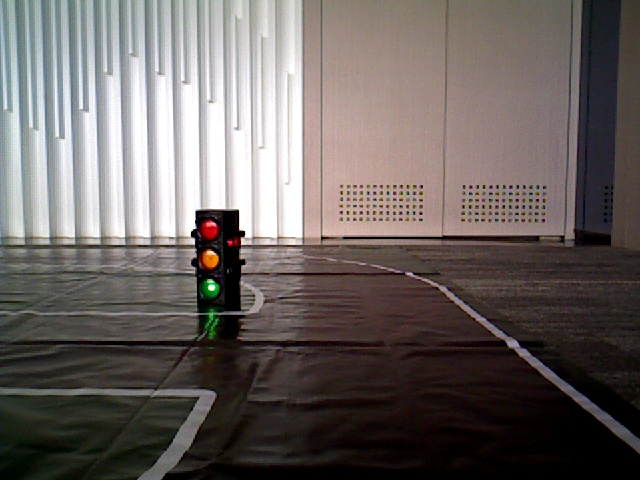green: (198, 209, 228, 305)
